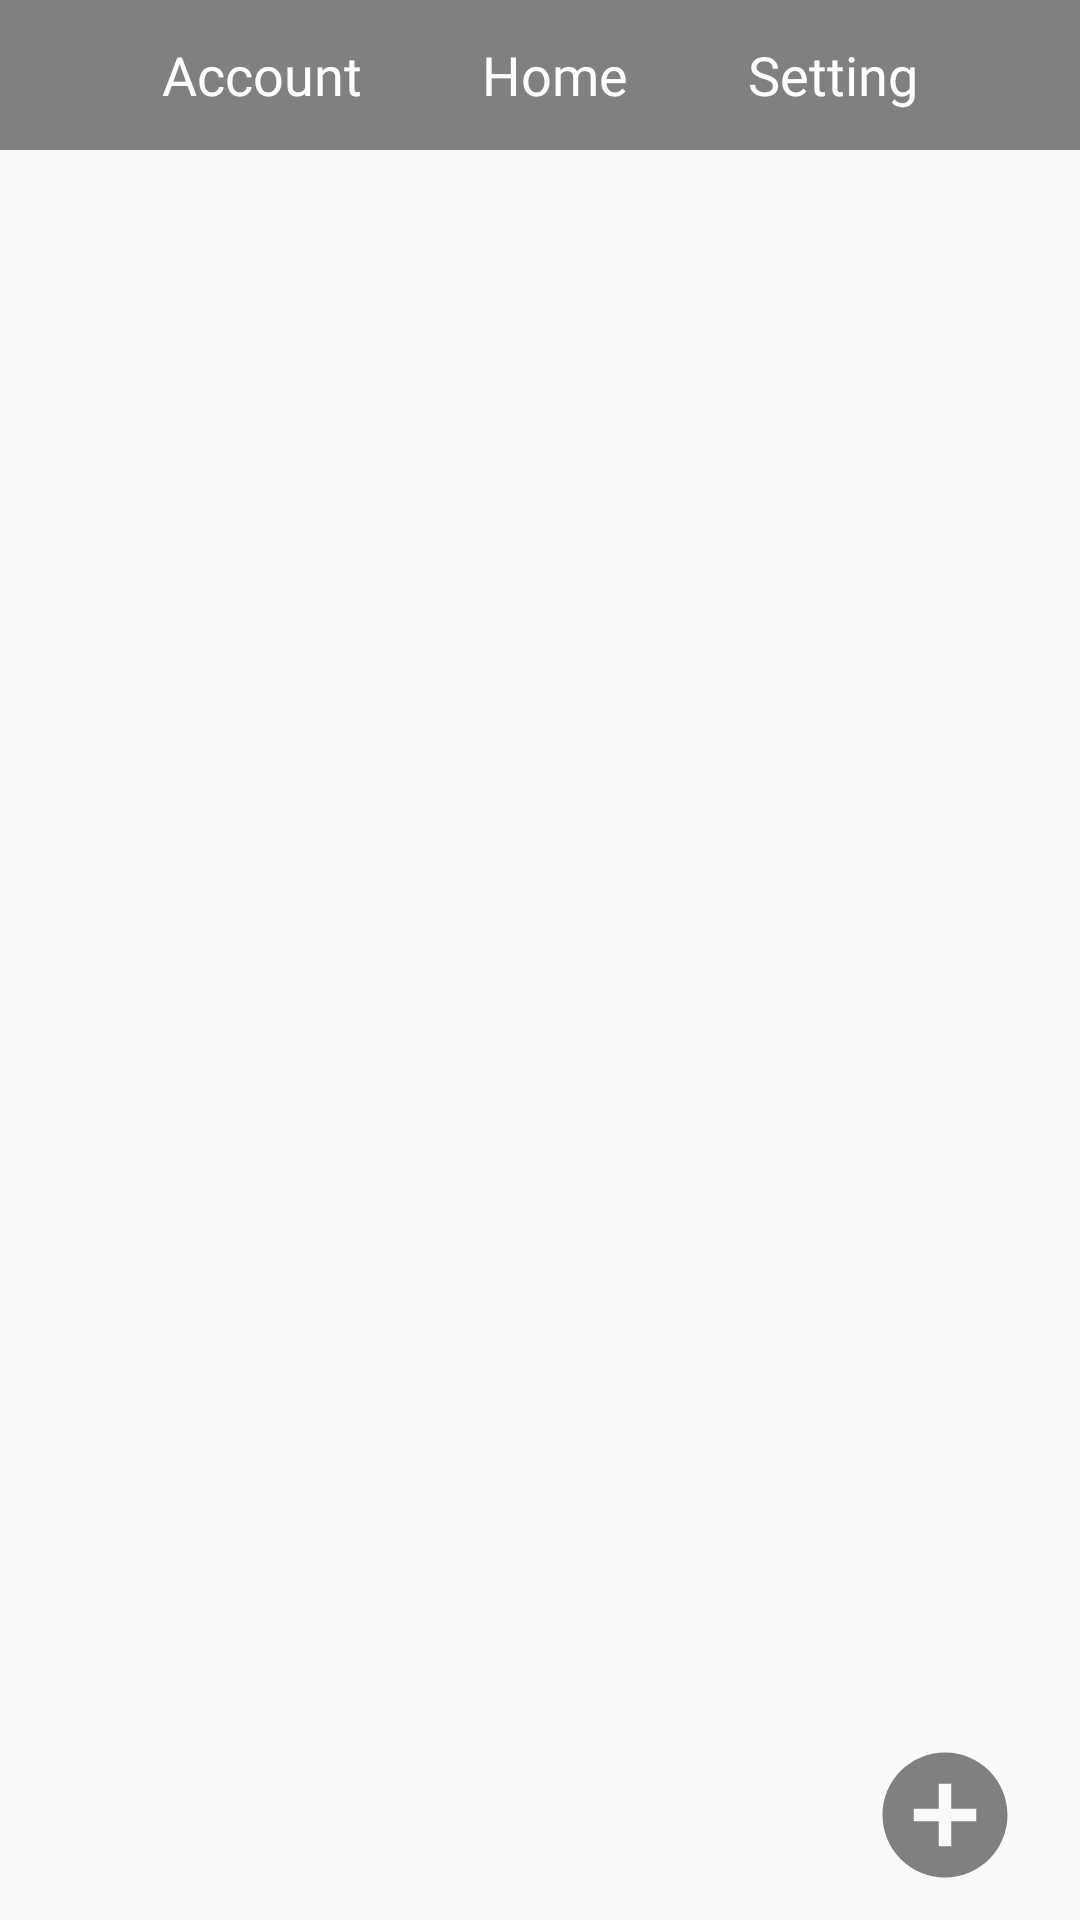

Where to tap for icons on this 1080px x 1920px app screen, as [x,y]:
add circle: [945,1815]
